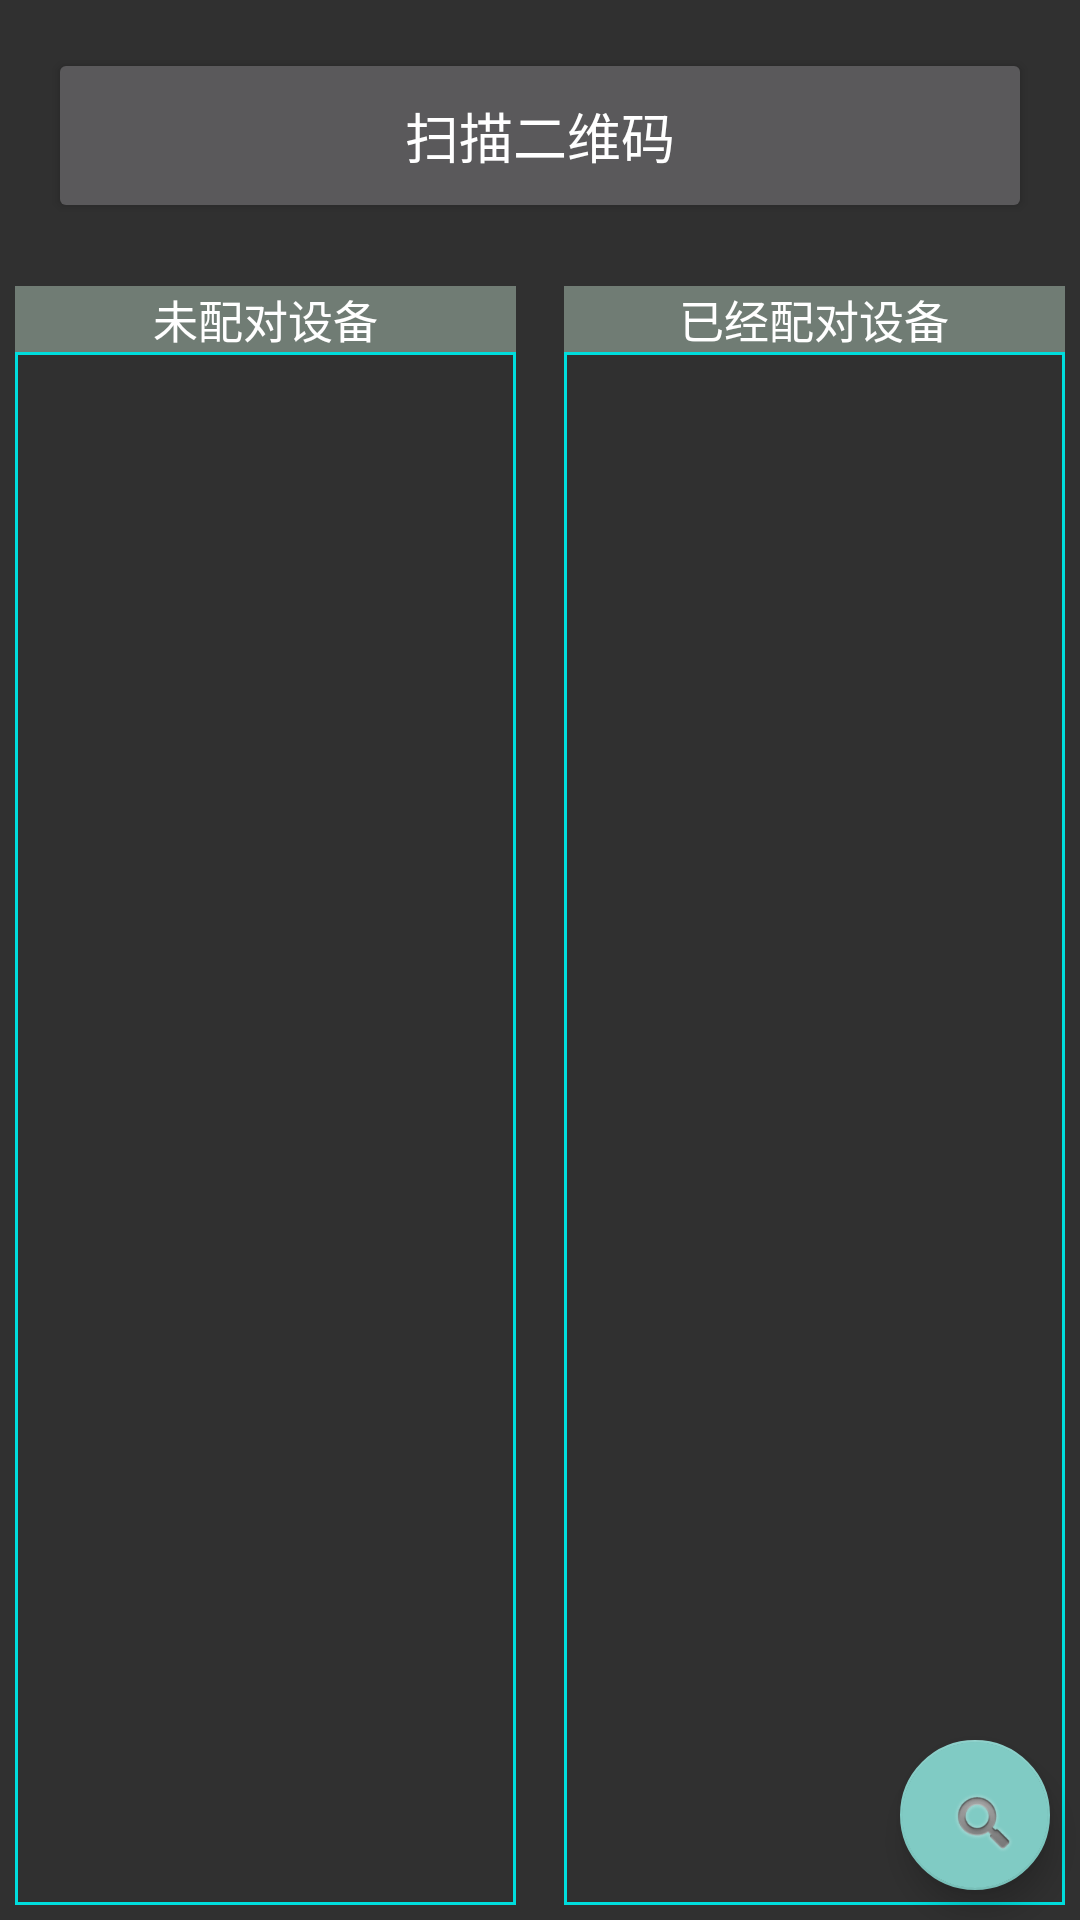

Named icons in this screenshot (1080 x 1920) and their bounding boxes, box=[x1, y1, x2, y2]:
search category: box=[900, 1740, 1050, 1890]
